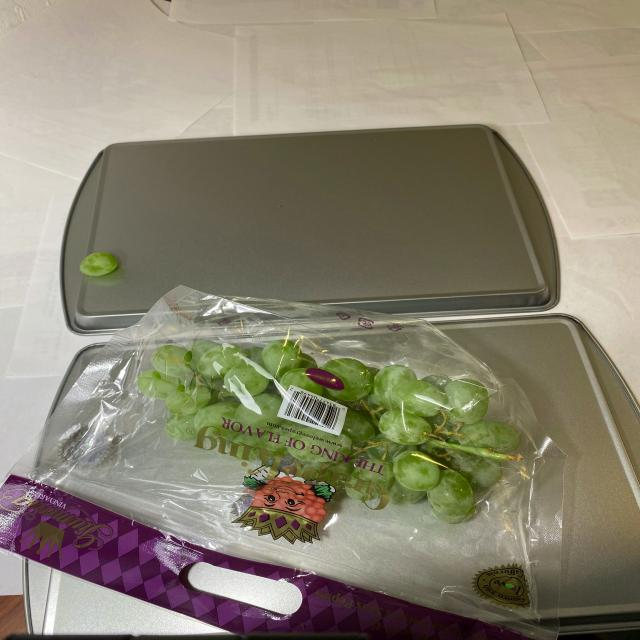grapes: (144, 332, 538, 529)
